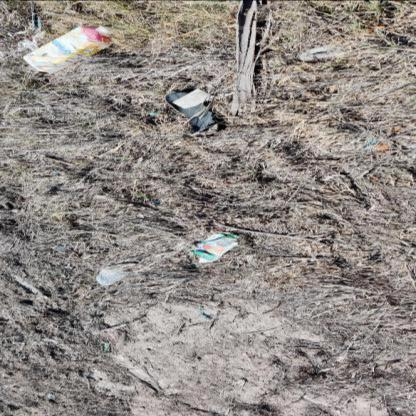Bottle: (97, 26, 113, 34)
Bottle cap: (23, 26, 114, 74), (96, 268, 128, 286)
Other litter: (191, 232, 238, 260)
Unlabeled litter: (164, 90, 221, 135), (171, 89, 213, 109), (17, 32, 46, 52), (199, 253, 224, 262), (199, 312, 214, 320), (364, 141, 377, 147), (151, 110, 164, 116), (104, 343, 108, 350), (198, 308, 201, 310)
